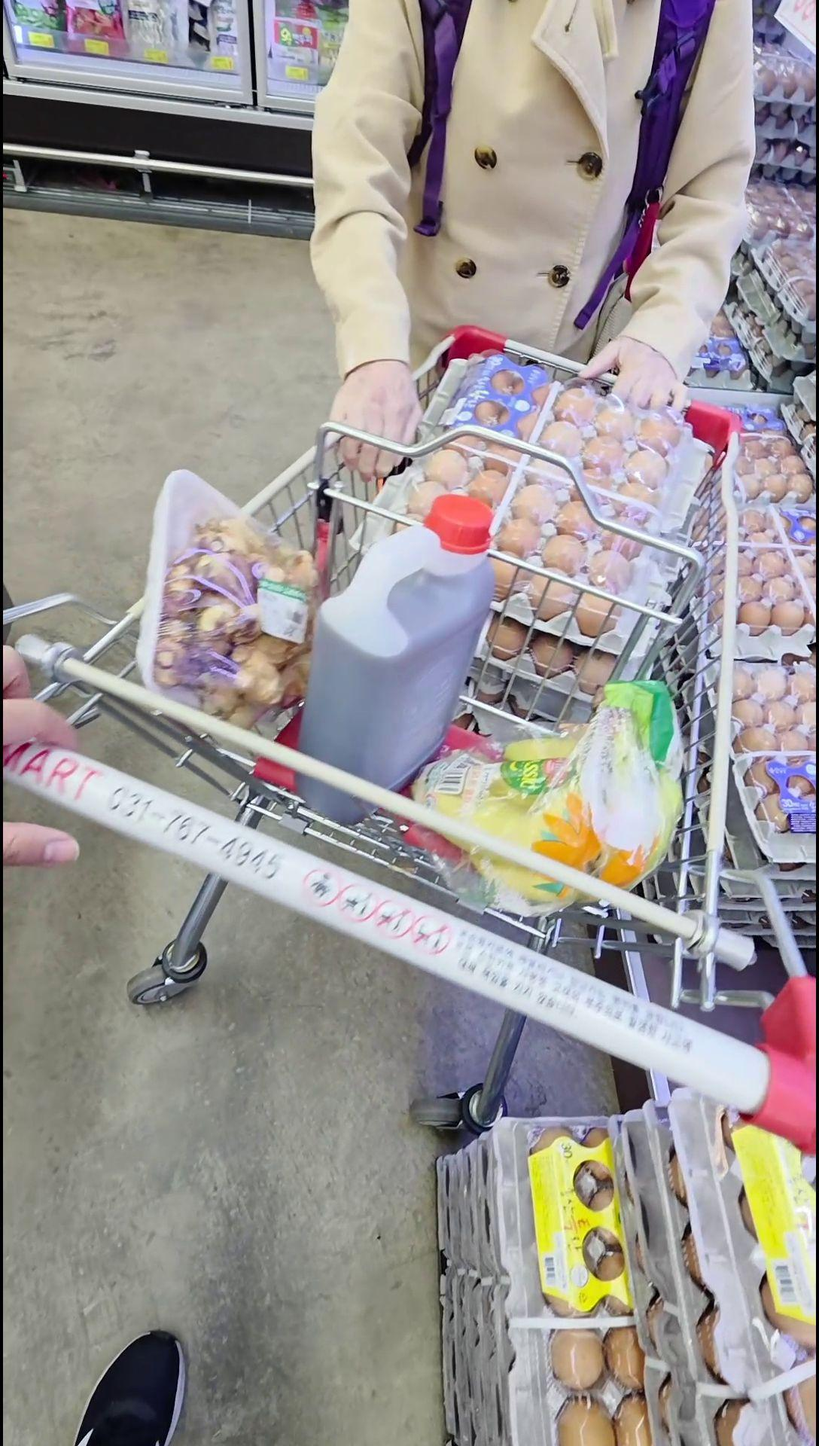fully_cart: (0, 317, 818, 1165)
